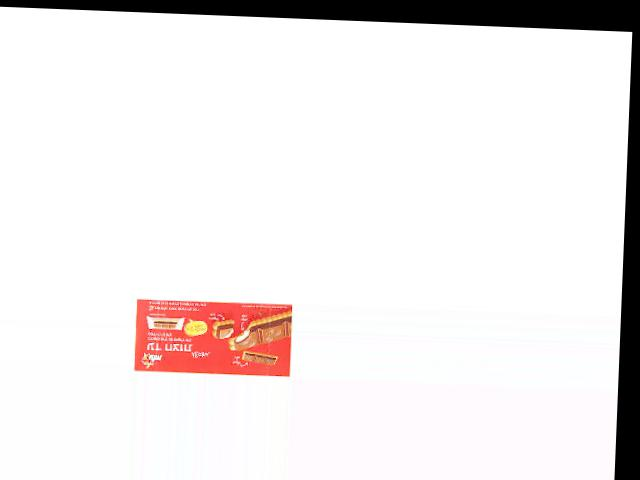chocolate: (131, 297, 293, 377)
